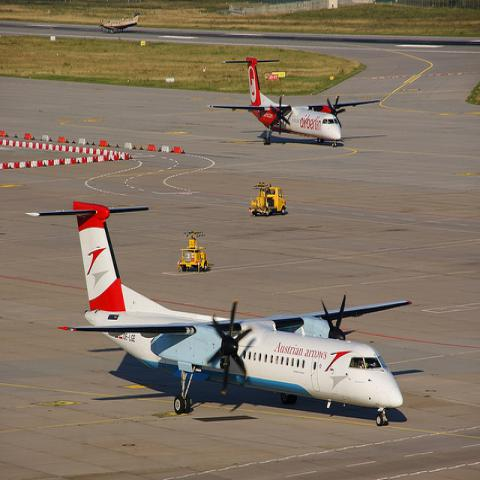truck: (178, 232, 211, 273), (249, 181, 287, 216)
